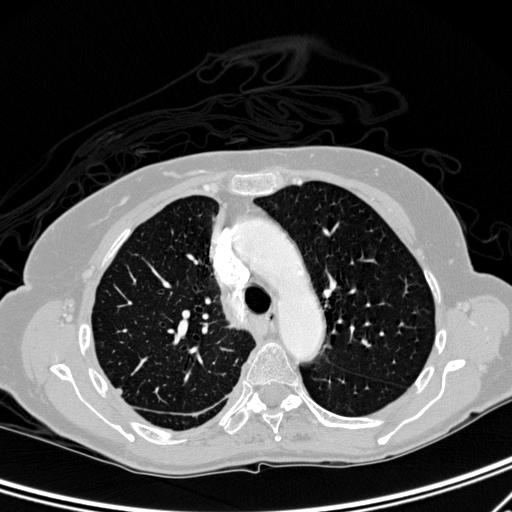nodule: (114, 386, 125, 397)
